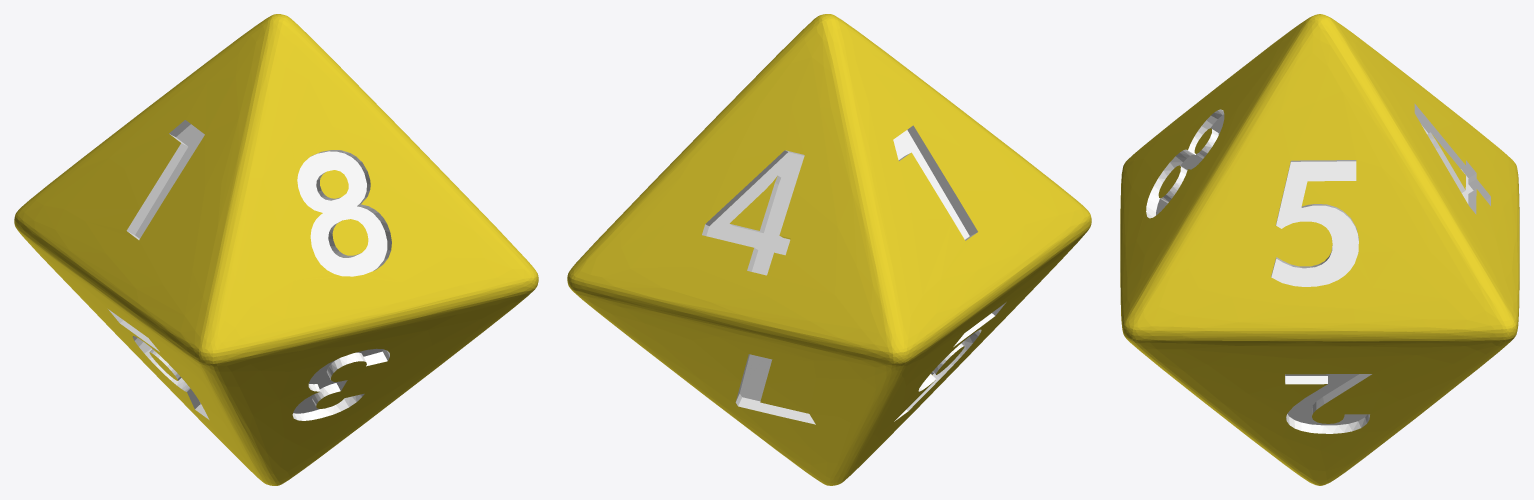
3 renders of one model, left to right at view 1: azimuth 30°, elevation 25°; view 2: azimuth 150°, elevation 25°; view 3: azimuth 270°, elevation 25°, orthographic.
Visible parts, largest first — view 1: D8 Base; view 2: D8 Base; view 3: D8 Base.
Boxes of the visible parts, x1,y1,x2,y2 form: D8 Base: [14, 14, 538, 485]; D8 Base: [567, 14, 1091, 485]; D8 Base: [1120, 14, 1519, 485].
Bounding box in the file's own units: 33.98 × 44.1 × 33.98.
